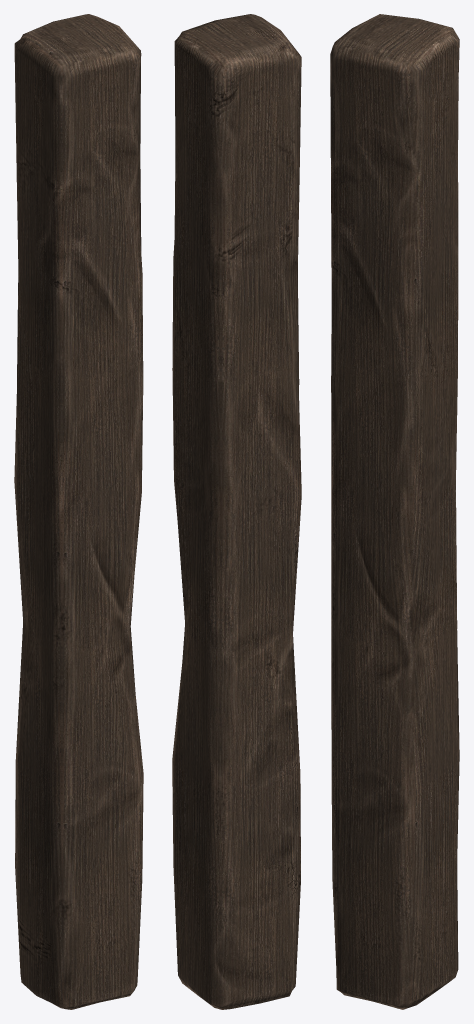
Rendered from Beam.fbx.
3 renders of one model, left to right at view 1: azimuth 30°, elevation 25°; view 2: azimuth 210°, elevation 25°; view 3: azimuth 330°, elevation 25°, orthographic.
Visible parts, largest first — view 1: RetopoGroup1; view 2: RetopoGroup1; view 3: RetopoGroup1.
Part boxes in pixels (x1=…): RetopoGroup1: x1=14, y1=14, x2=143, y2=1009; RetopoGroup1: x1=172, y1=14, x2=301, y2=1009; RetopoGroup1: x1=330, y1=14, x2=459, y2=1009.
Bounding box in the file's own units: 101 × 1012 × 101.
